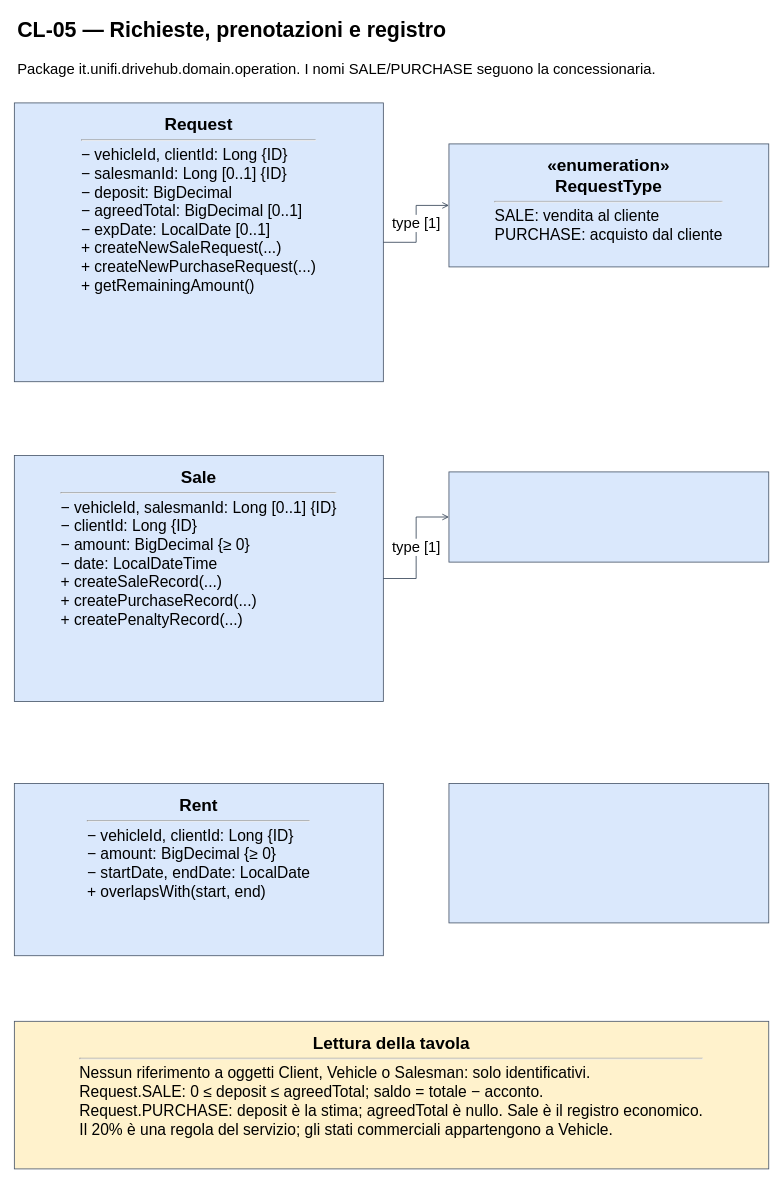
Image size: 783x1183. Some labels were removed from this diagram. Here are the shapes that lost their labels. From the top down, the box of each, then its label:
(448, 471, 769, 562): «enumeration» SaleType SALE, PURCHASE, PENALTY
(448, 783, 769, 923): TestDrive − vehicleId, clientId: Long {ID} − date: LocalDateTime + isFuture()
